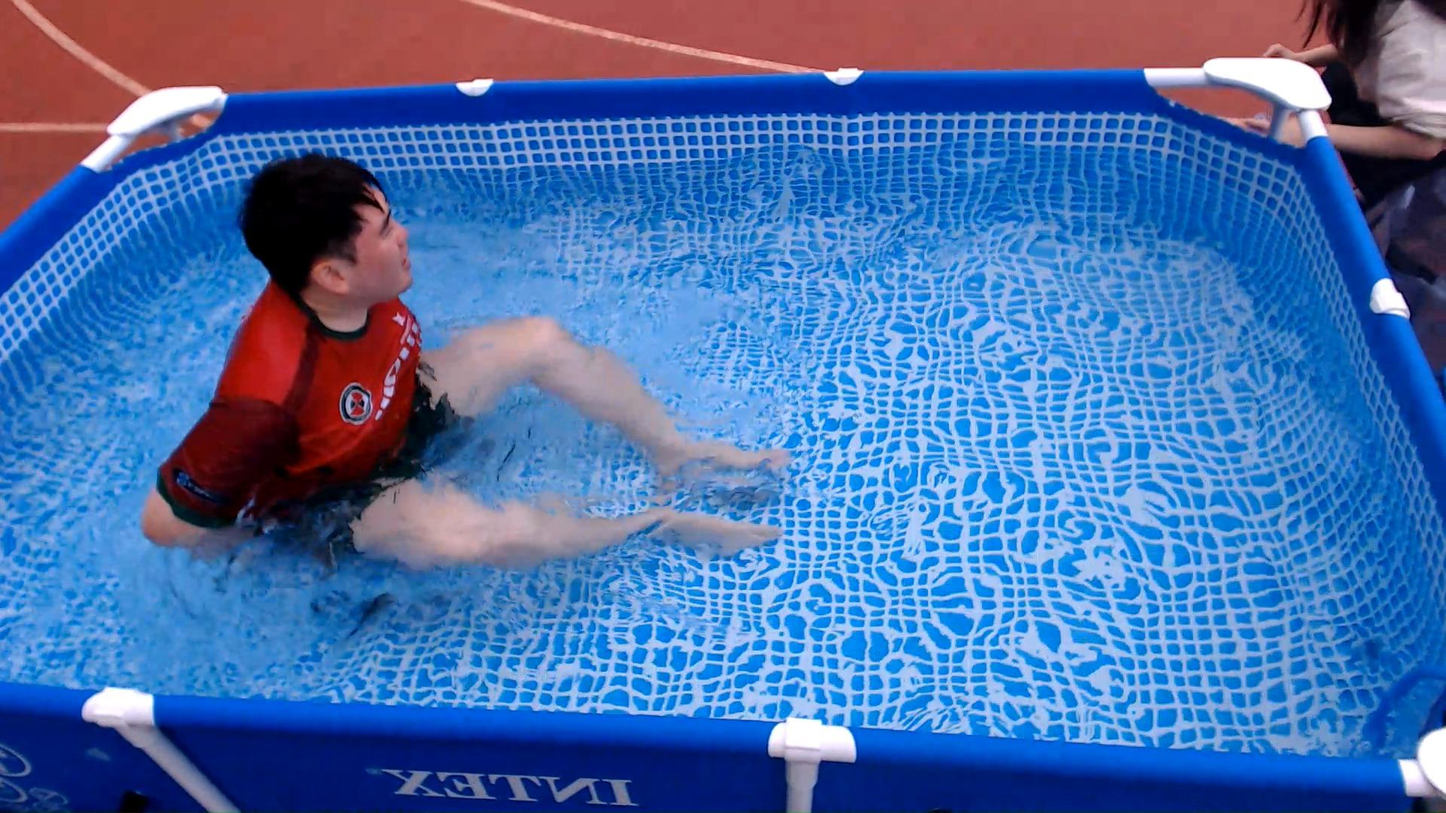Swimming: (66, 104, 889, 636)
